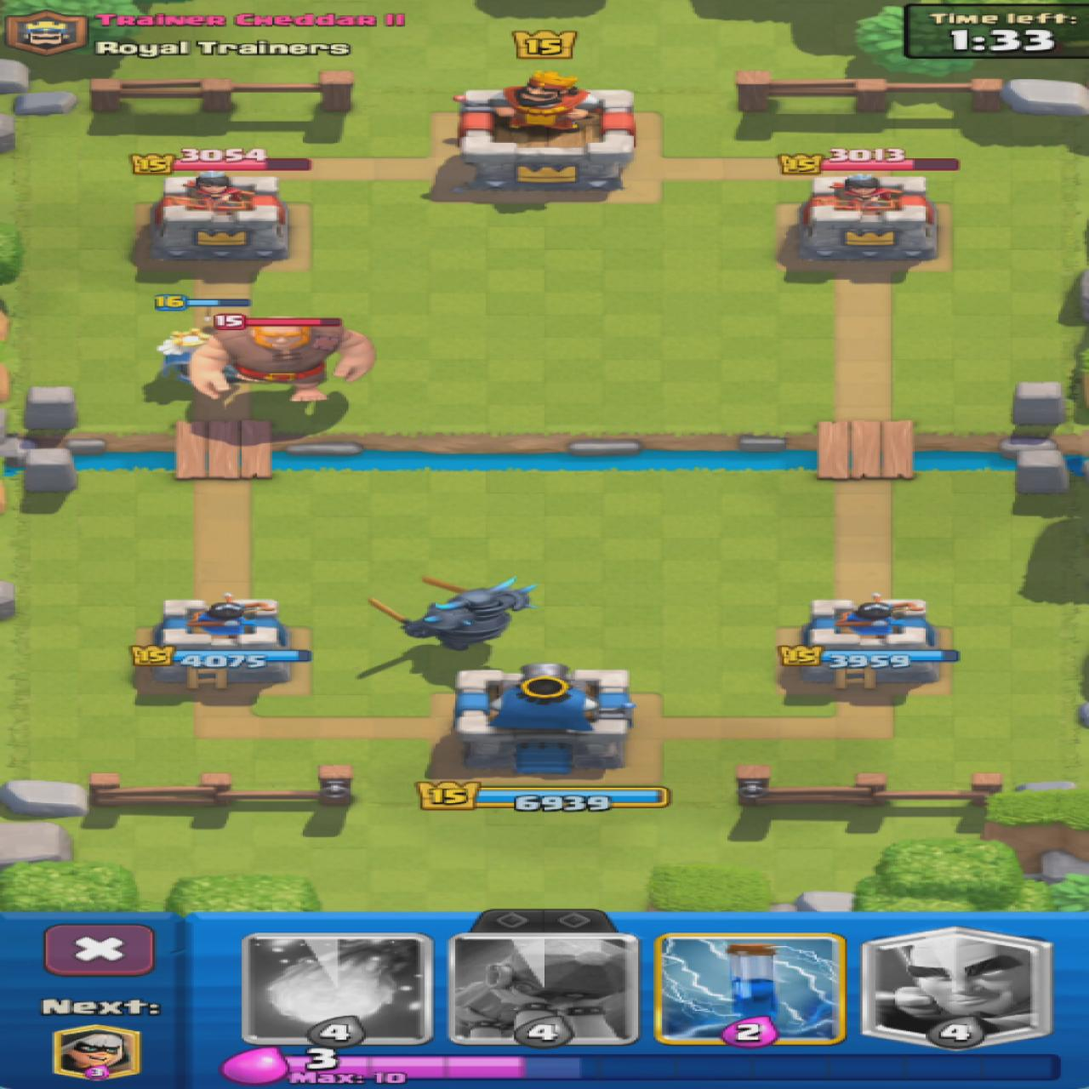Enemy-Giant: (192, 323, 372, 400)
Enemy-KingTower: (457, 72, 634, 194)
Enemy-PrincessTower: (797, 175, 937, 263), (150, 171, 287, 260)
